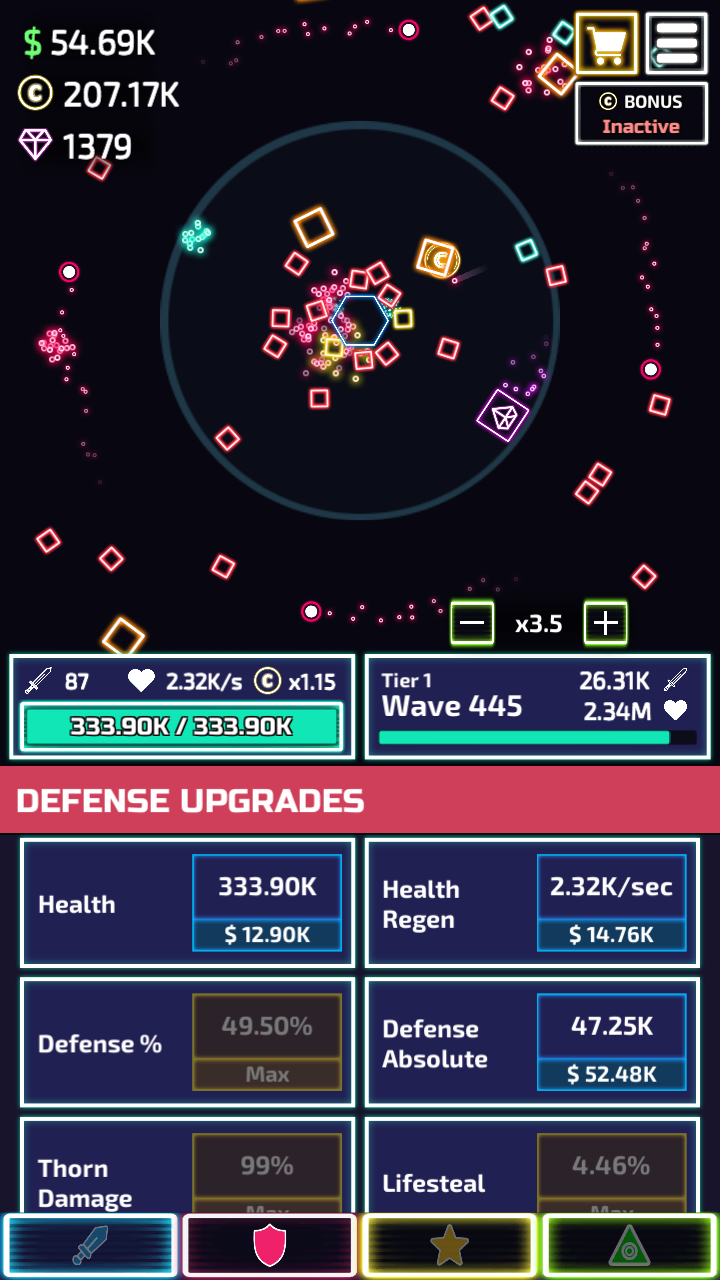B_Floating_Gem: (472, 390, 534, 447)
B_Menu_Closed: (570, 11, 709, 71)
B_Slot: (20, 976, 352, 1106), (18, 838, 354, 965), (365, 974, 696, 1102), (367, 844, 694, 960), (18, 1118, 356, 1212), (365, 1118, 698, 1209)
B_Slot_Button: (534, 858, 689, 954), (534, 995, 687, 1091), (189, 999, 344, 1091), (192, 855, 342, 949), (189, 1138, 342, 1211), (534, 1139, 689, 1207)
B_Slot_Label: (365, 1008, 504, 1081), (16, 1146, 142, 1212), (369, 867, 477, 942), (25, 1020, 178, 1068), (369, 1159, 497, 1207), (23, 883, 135, 922)
B_Slot_Maxed: (189, 990, 344, 1097), (192, 1139, 347, 1209), (534, 1139, 691, 1207)
B_Slot_Price: (208, 913, 324, 951), (552, 917, 662, 954), (552, 1059, 666, 1093)
B_Slot_Value: (201, 865, 329, 903), (545, 1009, 676, 1045), (545, 871, 678, 906), (203, 1008, 335, 1043), (550, 1146, 666, 1184), (208, 1150, 315, 1184)
B_Tab_Defense: (0, 771, 720, 833)
